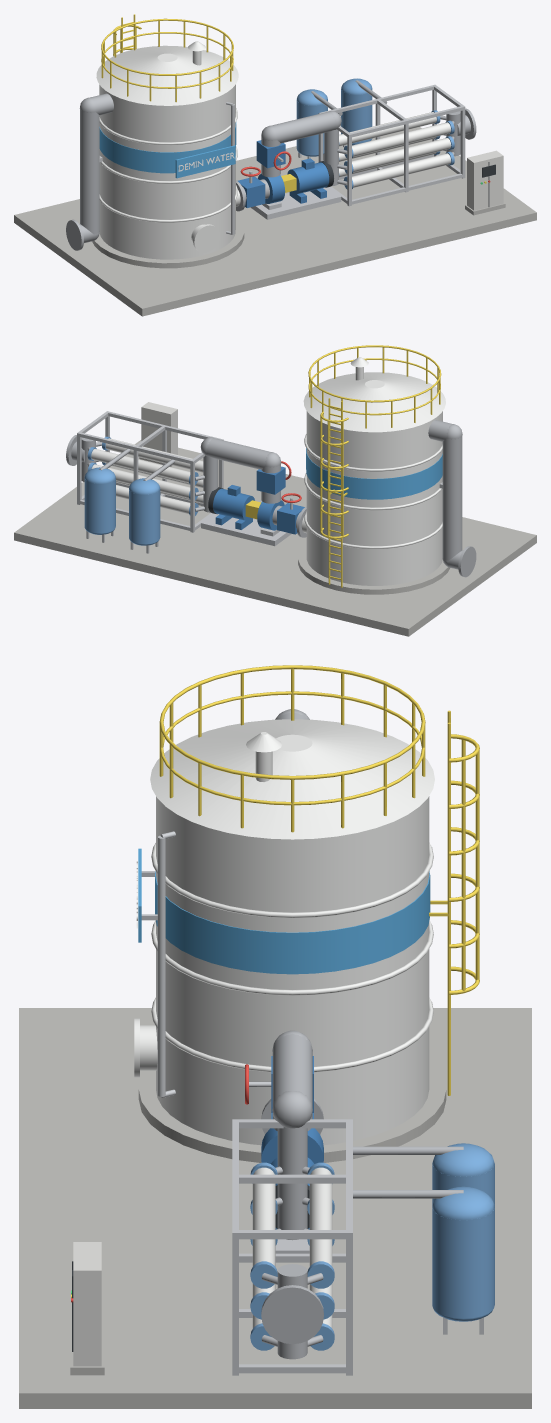
The model's file is water source.fbx.
The picture shows the model from 3 angles, top to bottom: view 1: azimuth 30°, elevation 25°; view 2: azimuth 150°, elevation 25°; view 3: azimuth 270°, elevation 25°; orthographic projection. The views are drawn at different scales.
Parts seen in each view (by area): view 1: WaterSource_Foundation_Pad, WaterSource_Tank_Shell, WaterSource_Tank_Roof, Water_pipe_1, WaterSource_Tank_Band, WaterSource_ControlPanel, WaterSource_Tank_Footing, Water_pipe_5, WaterSource_RO_Membrane_3, WaterSource_RO_Membrane_1, WaterSource_RO_Membrane_5, WaterSource_Pump_Baseplate (+25 smaller); view 2: WaterSource_Foundation_Pad, WaterSource_Tank_Shell, WaterSource_Tank_Roof, WaterSource_Tank_Band, Water_pipe_1, WaterSource_Tank_Footing, WaterSource_Polisher_1_Shell, WaterSource_Polisher_2_Shell, WaterSource_ControlPanel, Water_pipe_5, WaterSource_Pump_Baseplate, WaterSource_RO_Membrane_6 (+20 smaller); view 3: WaterSource_Foundation_Pad, WaterSource_Tank_Shell, WaterSource_Tank_Roof, WaterSource_Tank_Band, WaterSource_Polisher_2_Shell, WaterSource_Tank_Footing, WaterSource_ControlPanel, WaterSource_Outlet_Flange, Water_pipe_6, WaterSource_Roof_Rail_Top, Water_pipe_5, WaterSource_LevelGauge_Tube (+22 smaller).
Part boxes in pixels (x1,y1,x2,y2): WaterSource_Foundation_Pad: (14, 127, 536, 316); WaterSource_Tank_Shell: (99, 84, 235, 259); WaterSource_Tank_Roof: (96, 45, 238, 105); Water_pipe_1: (80, 109, 99, 234); WaterSource_Tank_Band: (99, 122, 236, 173); WaterSource_ControlPanel: (467, 150, 503, 210); WaterSource_Tank_Footing: (92, 216, 244, 268); Water_pipe_5: (271, 111, 335, 143); WaterSource_RO_Membrane_3: (352, 138, 451, 172); WaterSource_RO_Membrane_1: (352, 153, 450, 187); WaterSource_RO_Membrane_5: (352, 122, 450, 156); WaterSource_Pump_Baseplate: (250, 187, 341, 219); WaterSource_Foundation_Pad: (14, 440, 536, 636); WaterSource_Tank_Shell: (306, 411, 442, 585); WaterSource_Tank_Roof: (303, 372, 445, 432); WaterSource_Tank_Band: (306, 448, 442, 499); Water_pipe_1: (442, 436, 462, 560); WaterSource_Tank_Footing: (298, 543, 449, 594); WaterSource_Polisher_1_Shell: (129, 488, 160, 544); WaterSource_Polisher_2_Shell: (84, 478, 115, 533); WaterSource_ControlPanel: (141, 402, 177, 454); Water_pipe_5: (206, 438, 270, 469); WaterSource_Pump_Baseplate: (201, 513, 291, 546); WaterSource_RO_Membrane_6: (91, 449, 190, 483); WaterSource_Foundation_Pad: (19, 1008, 531, 1408); WaterSource_Tank_Shell: (156, 796, 429, 1145); WaterSource_Tank_Roof: (150, 719, 434, 839); WaterSource_Tank_Band: (155, 871, 430, 974); WaterSource_Polisher_2_Shell: (432, 1207, 494, 1318); WaterSource_Tank_Footing: (138, 1060, 446, 1162); WaterSource_ControlPanel: (73, 1242, 101, 1366); WaterSource_Outlet_Flange: (261, 1285, 323, 1344); Water_pipe_6: (277, 1127, 307, 1240); WaterSource_Roof_Rail_Top: (159, 665, 425, 779); Water_pipe_5: (272, 1033, 312, 1107); WaterSource_LevelGauge_Tube: (157, 835, 165, 1096).
Bounding box in the file's own units: 533 × 260 × 300.
